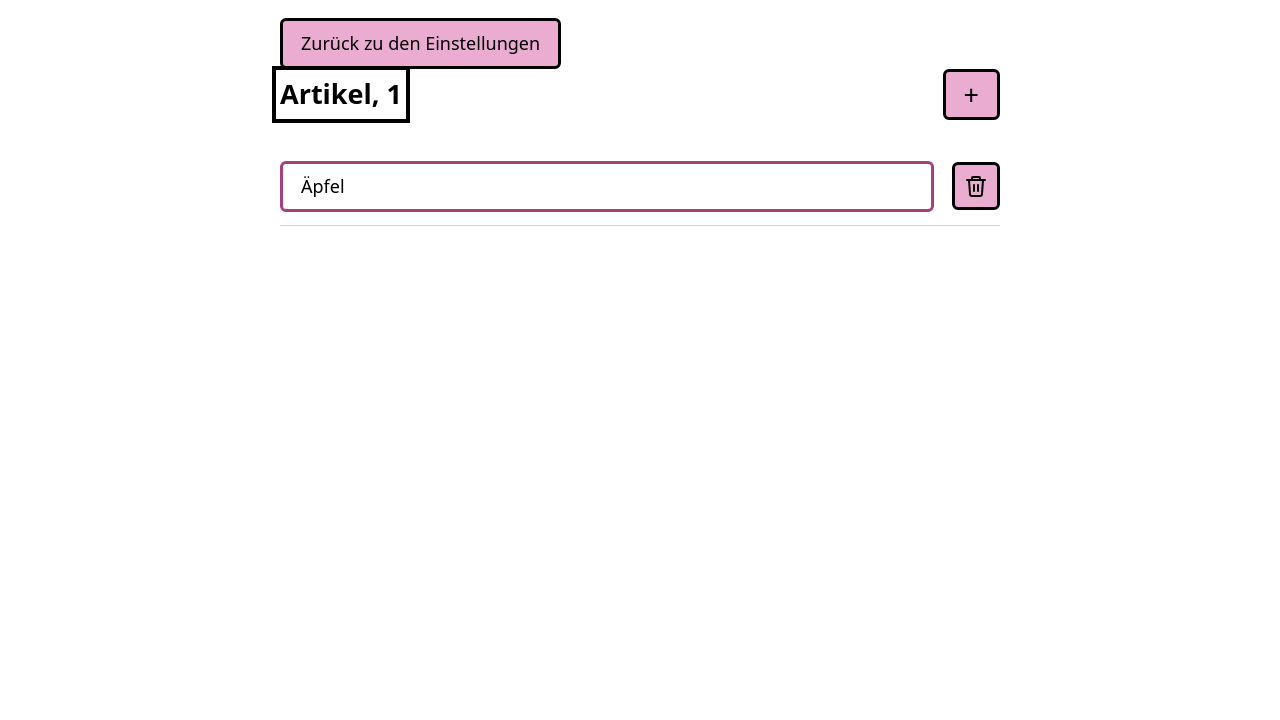
Test: KnownItemsArea › refuses to create an item that is already known
Click the button named "Artikel anlegen".
click(971, 94)  # box [942, 69, 1000, 120]
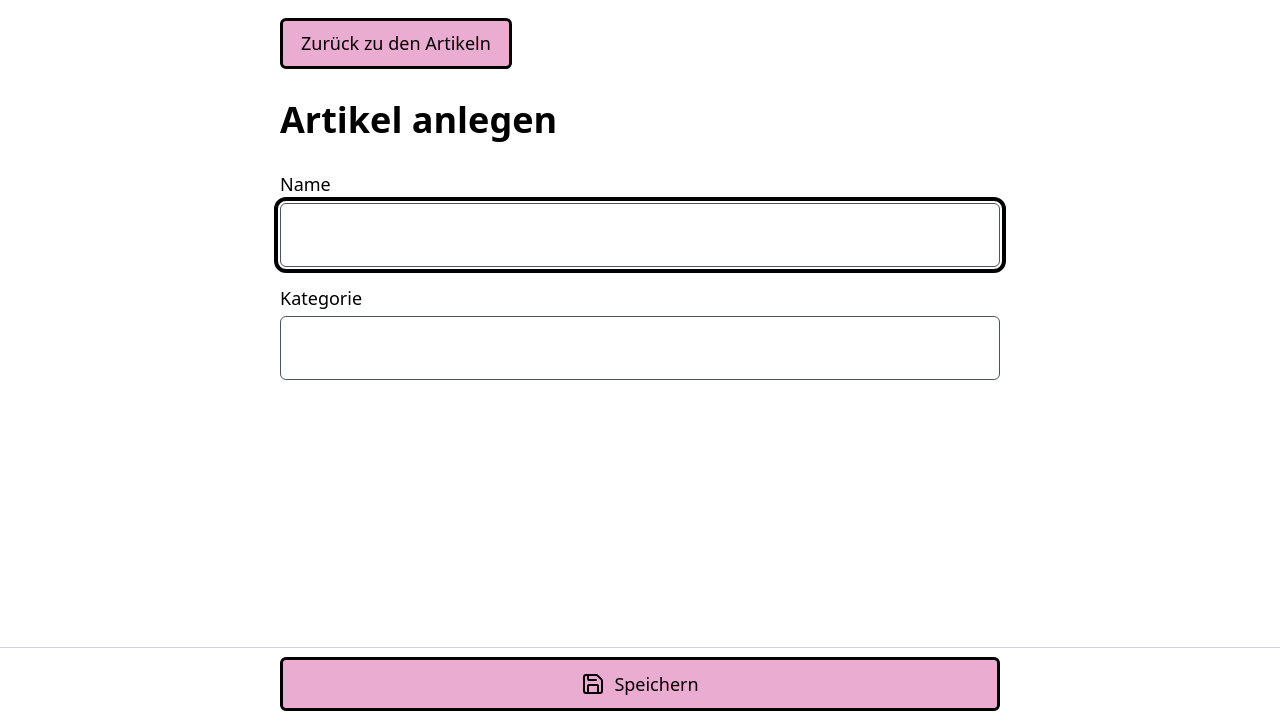
Type "äpfel" into the field labelled "Name".
click(640, 235); type("äpfel")  # box [280, 203, 1000, 267]
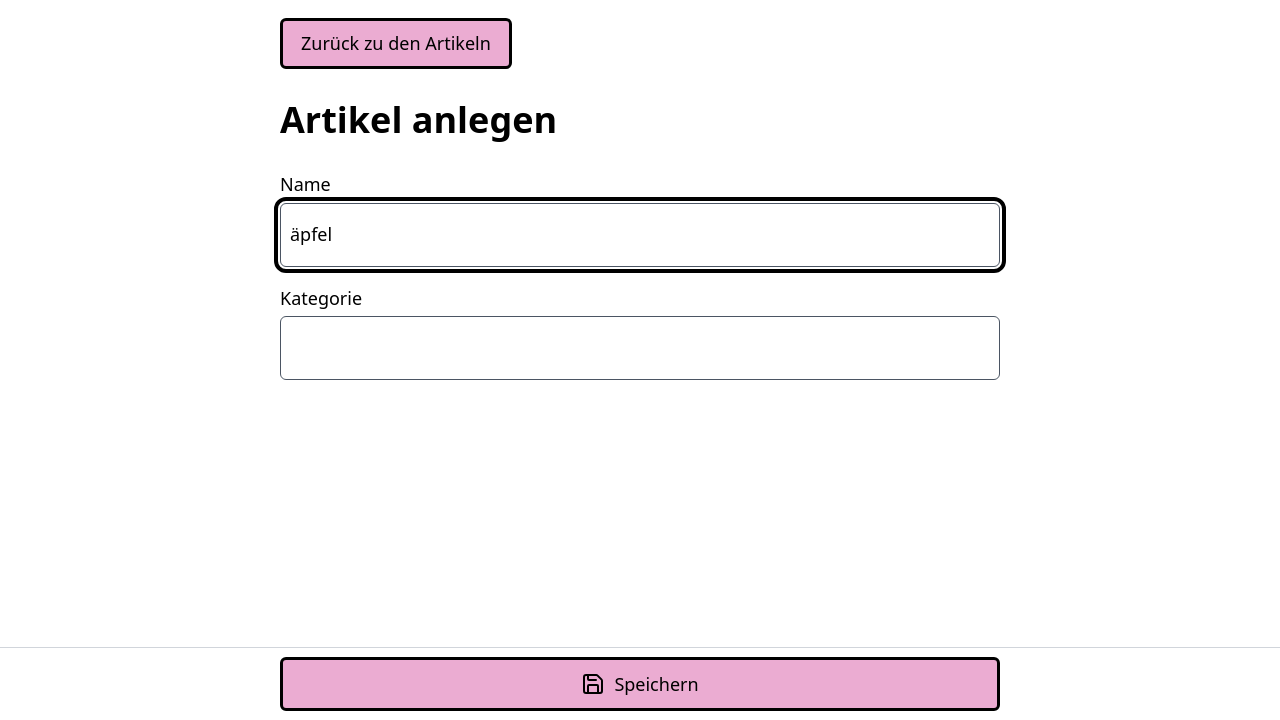
Click the button "Speichern".
click(640, 684)  # box [280, 657, 1000, 711]
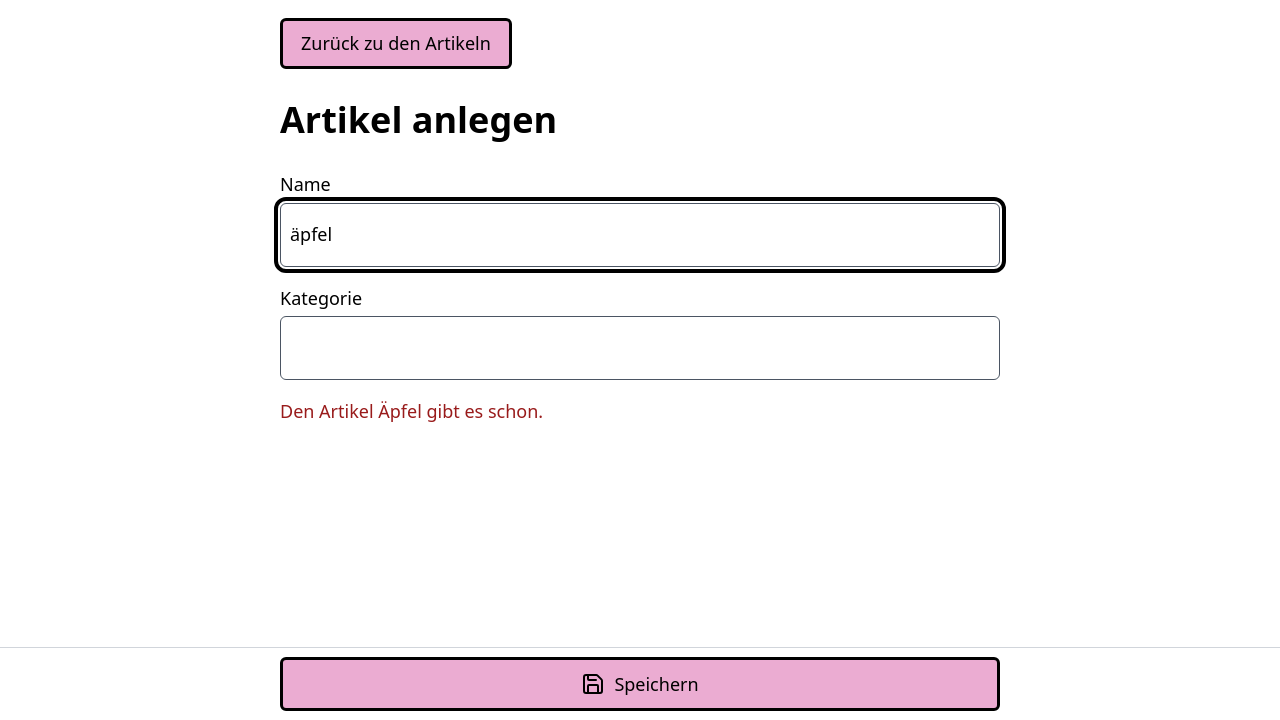
expect the text "Den Artikel Äpfel gibt es schon." is shown: met, box [280, 399, 543, 423]
